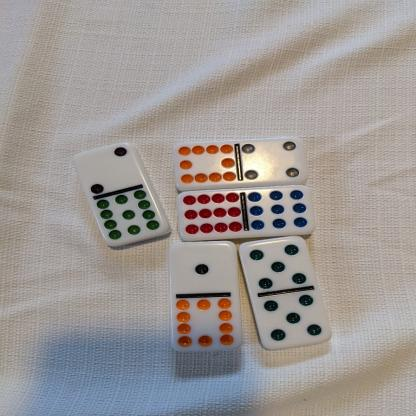pip-1: (168, 240, 237, 295)
pip-10: (170, 297, 242, 350), (174, 142, 238, 190)
pip-11: (94, 188, 167, 247)
pip-12: (180, 190, 244, 241)
pip-2: (70, 142, 140, 194)
pip-4: (239, 139, 308, 184)
pip-5: (253, 291, 331, 350), (237, 235, 315, 289)
pip-9: (245, 189, 315, 233)
